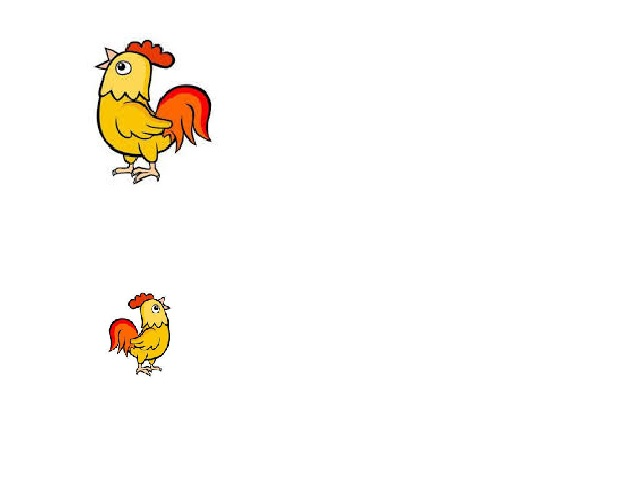crown: (126, 38, 180, 68), (125, 290, 155, 310)
eyes: (114, 59, 132, 77), (151, 302, 160, 314)
feet: (114, 160, 159, 184), (136, 364, 165, 378)
tail: (155, 84, 215, 152), (106, 318, 140, 357)
